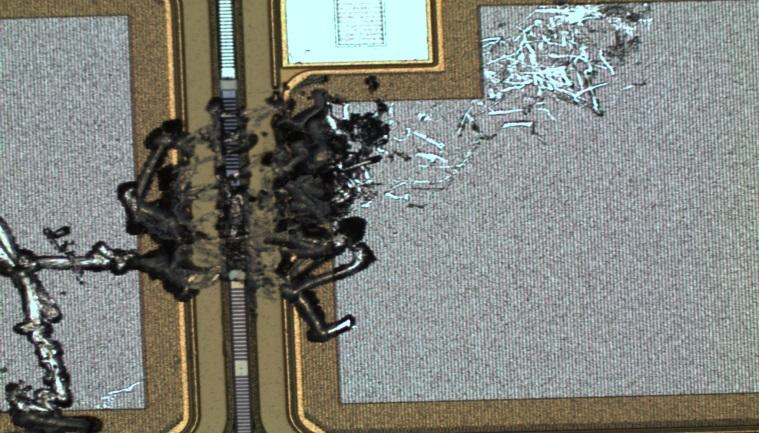SCRATCH: (1, 1, 658, 433)
